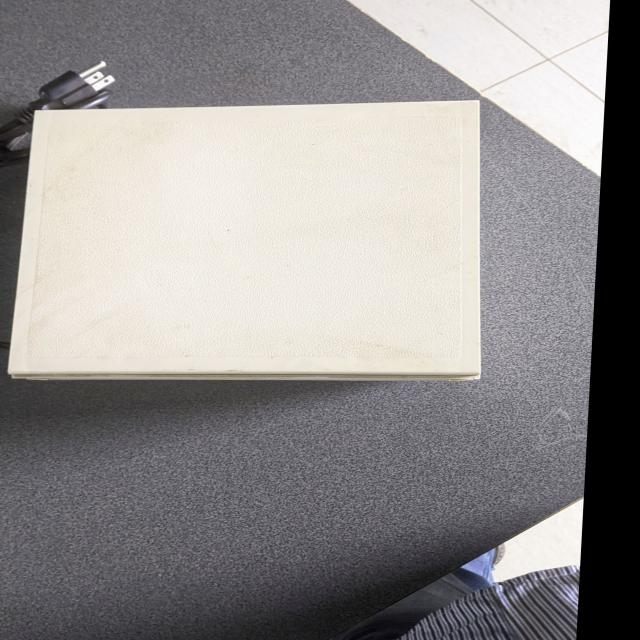Freefall Digital Timer: (0, 77, 506, 389)
